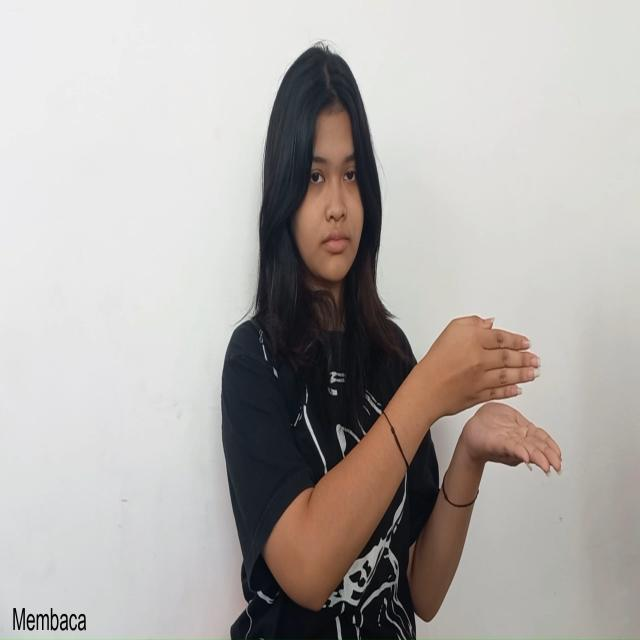Membaca -BISINDO-: (427, 308, 563, 490)
